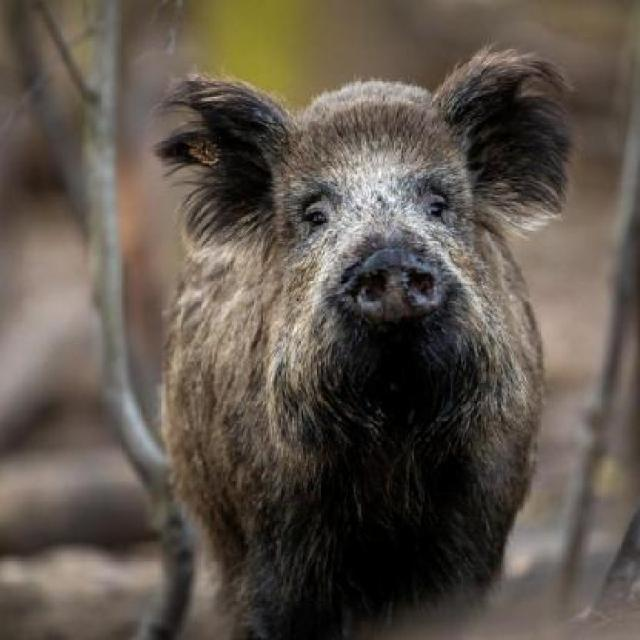wildboar: (132, 40, 585, 640)
